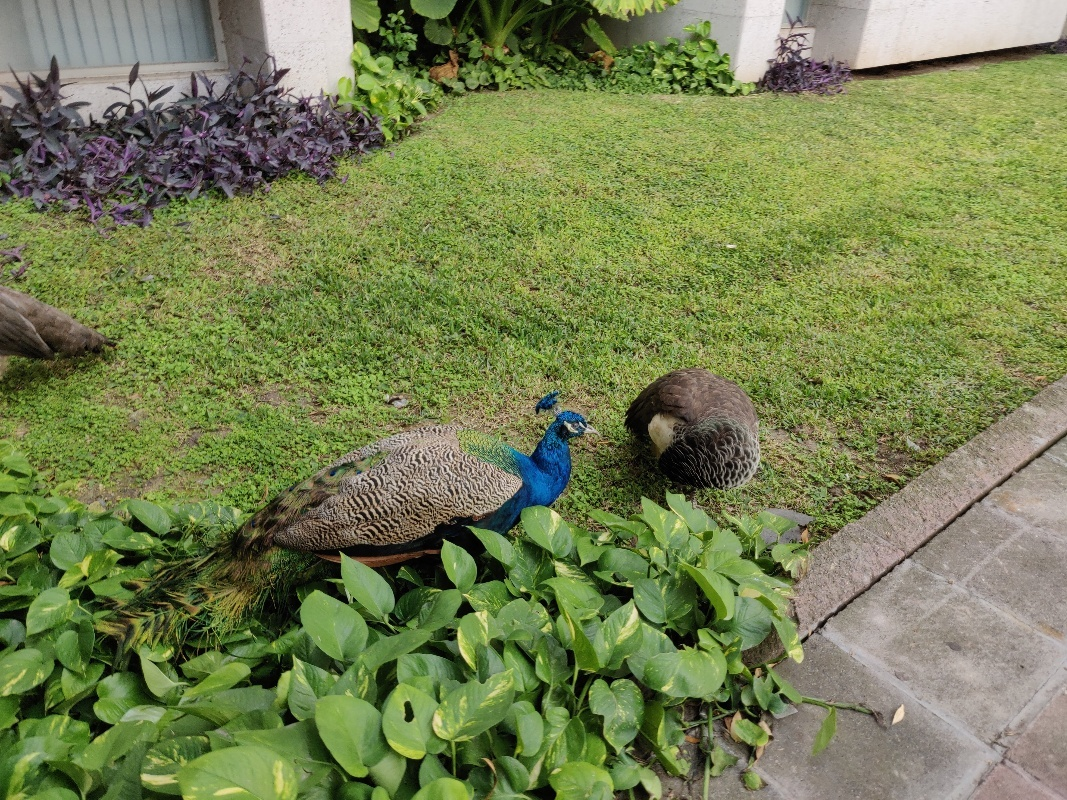pavoreal: (350, 391, 602, 543), (634, 359, 760, 491)
